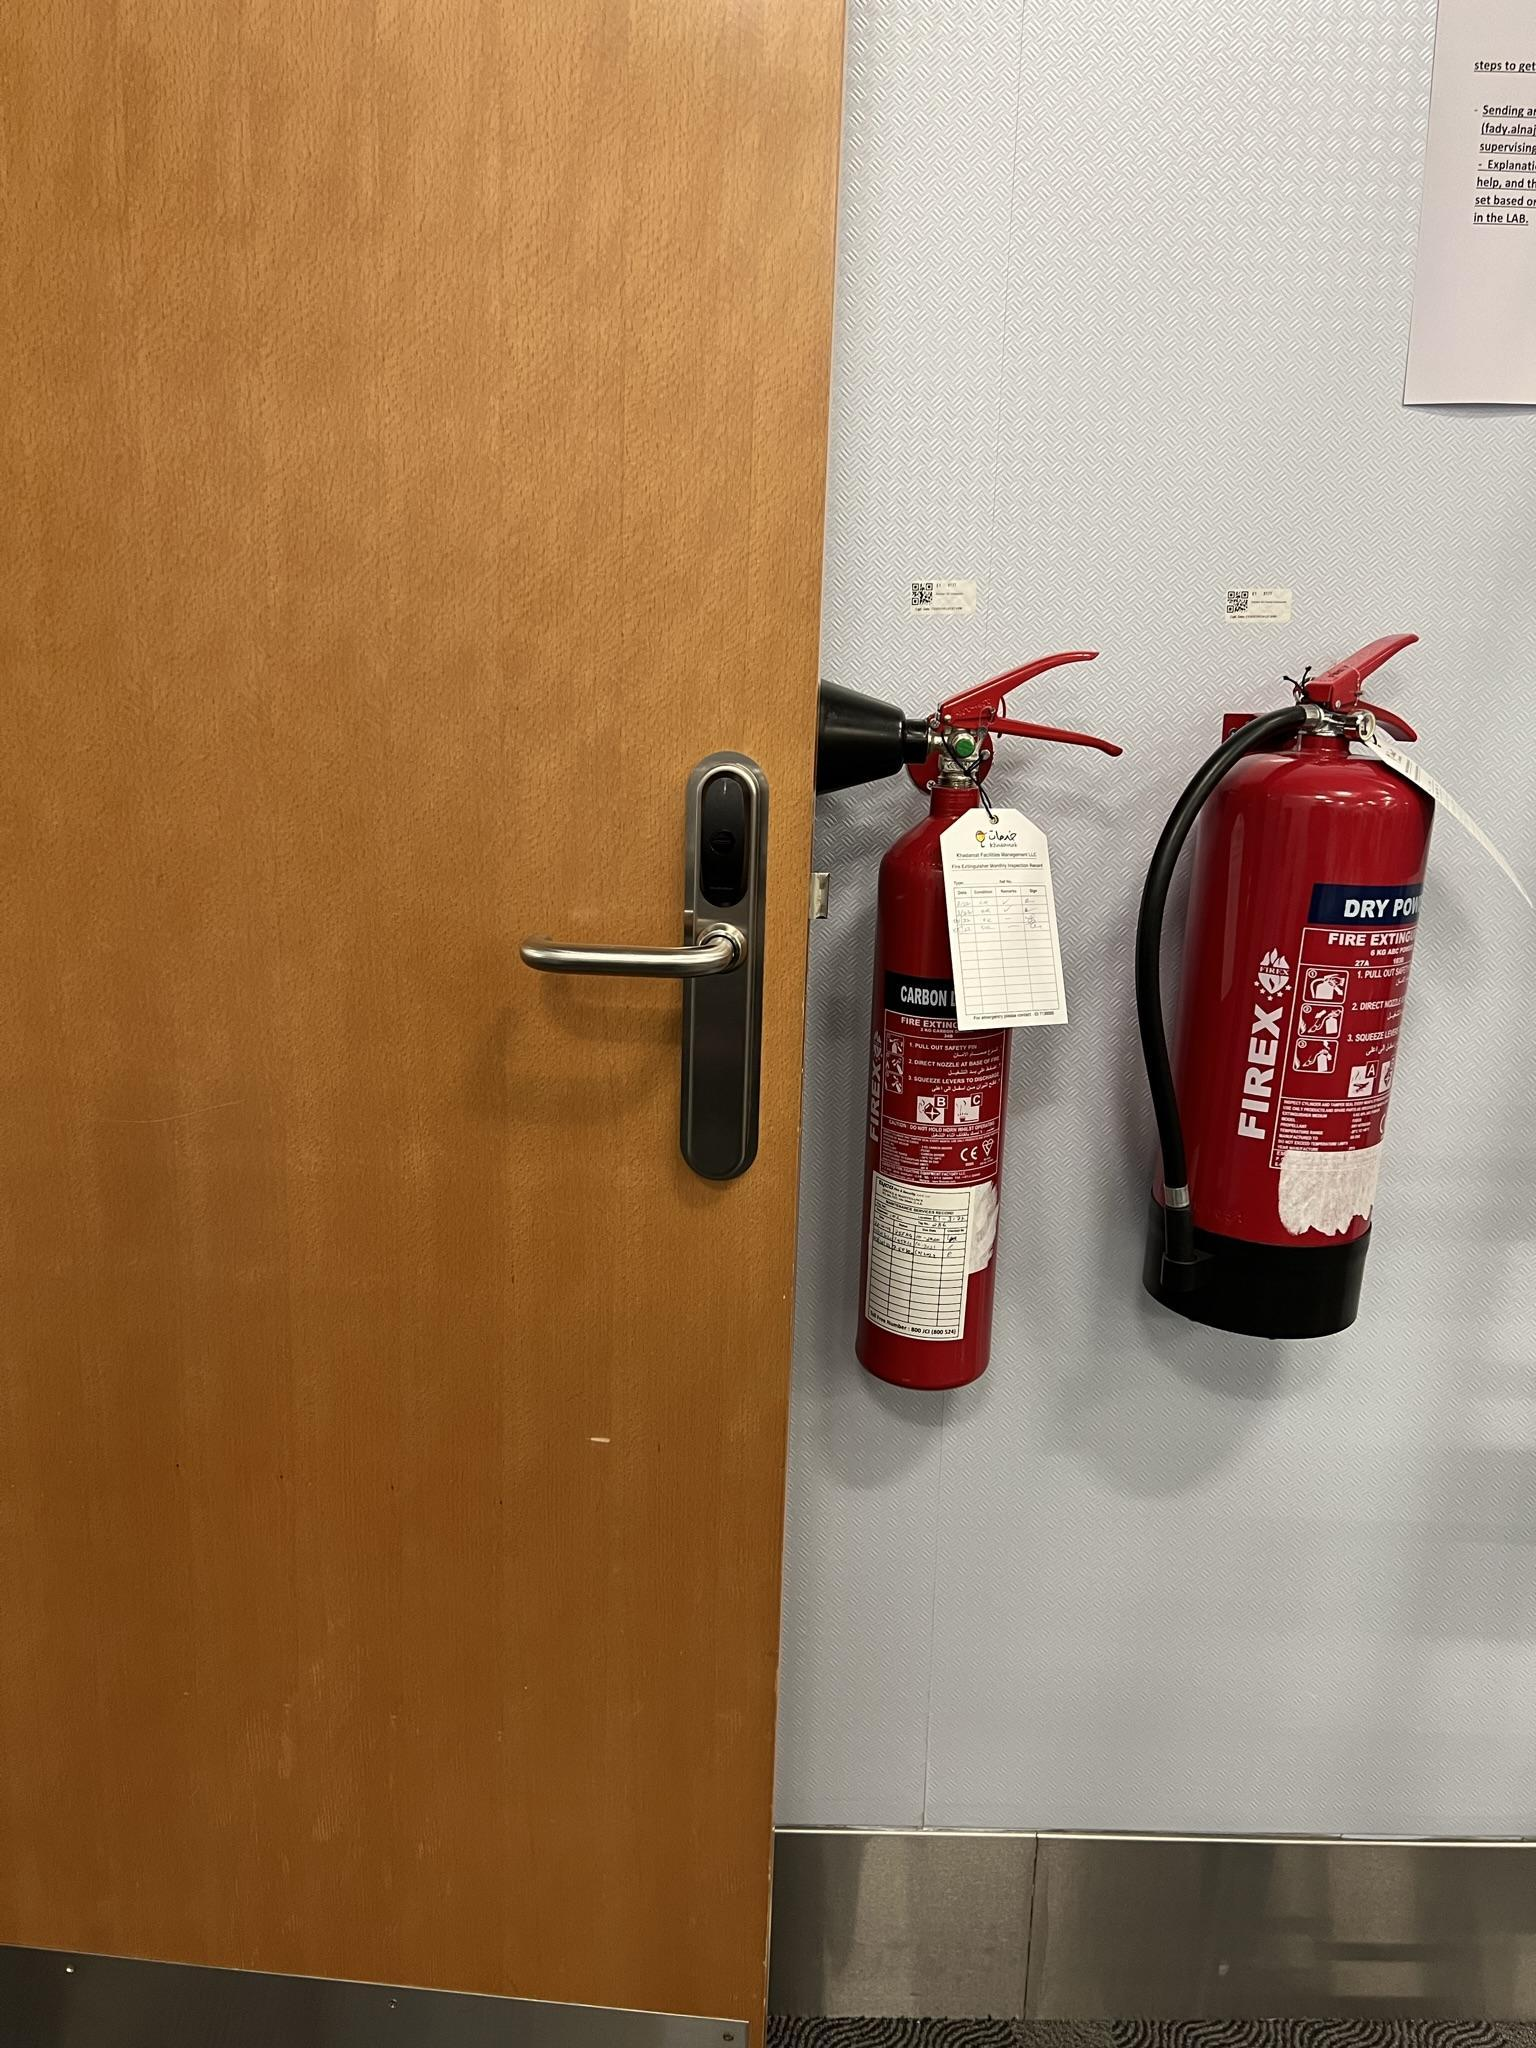door: (0, 0, 813, 2048)
handle: (515, 747, 771, 1180)
